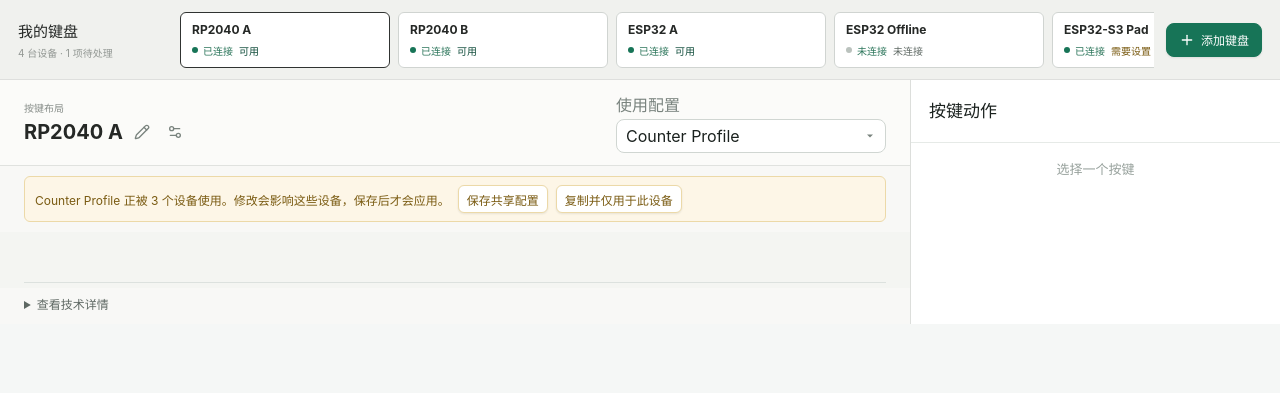
Test case: restores the current assignment when an automatic save fails
Select "Timer Profile" in the dropdown labelled "使用配置" at (751, 136), box [616,119,886,153]
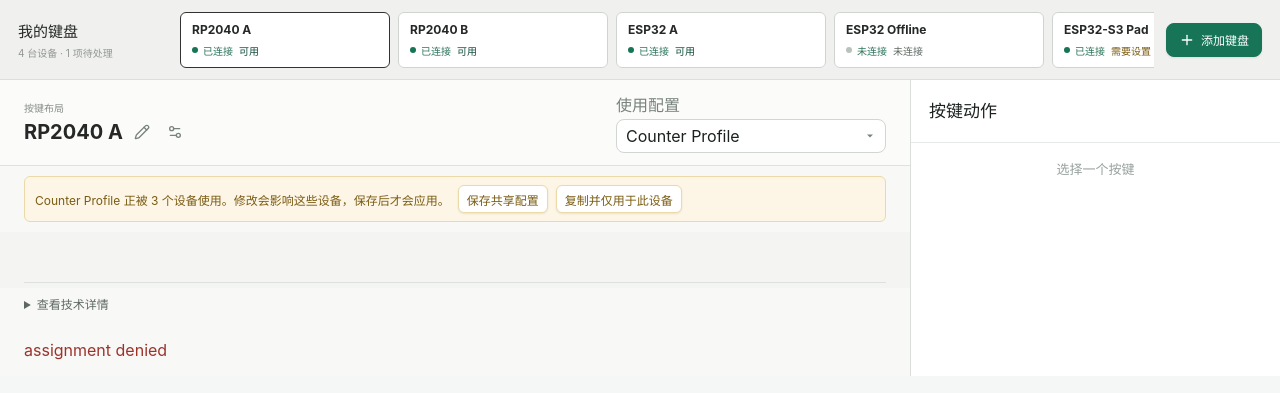
expect the message "assignment denied" is shown: met, box [24,340,167,360]
